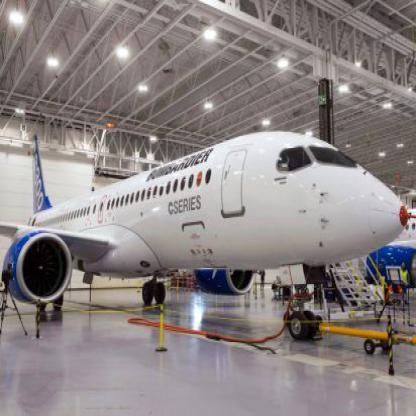CIV_Plane: (3, 125, 410, 346)
